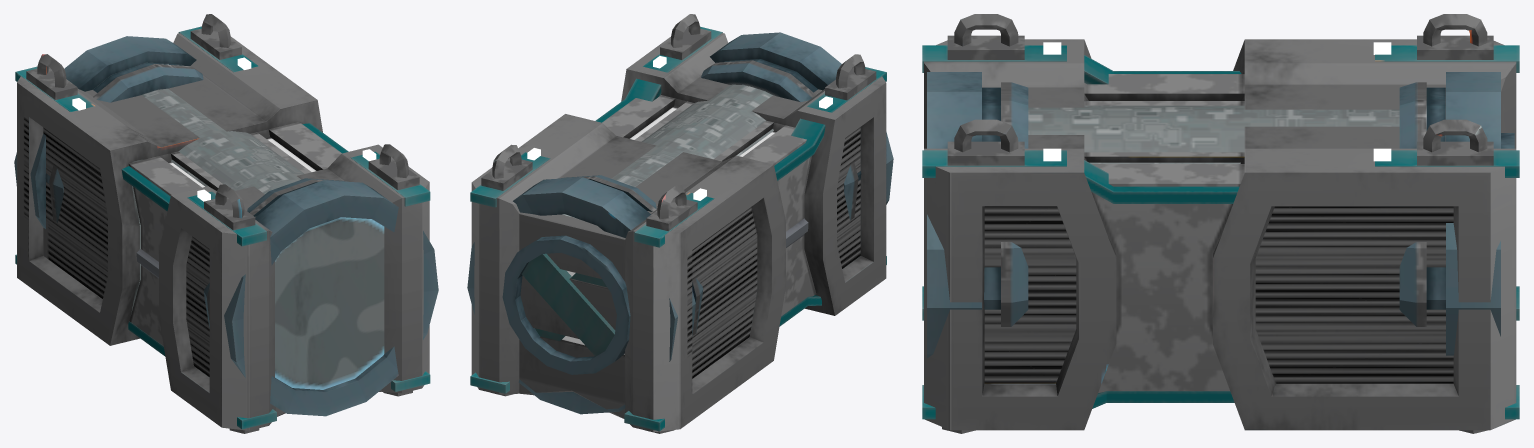
Rendered from WarehouseCrates.fbx.
3 renders of one model, left to right at view 1: azimuth 30°, elevation 25°; view 2: azimuth 150°, elevation 25°; view 3: azimuth 270°, elevation 25°, orthographic. The views are drawn at different scales.
Parts seen in each view (by area): view 1: ResourceCrate-Metal, ResourceTank-Hydrogen; view 2: ResourceCrate-Metal, ResourceTank-Hydrogen; view 3: ResourceCrate-Metal, ResourceTank-Hydrogen.
Part boxes in pixels (bbox=[...]): ResourceCrate-Metal: bbox=[17, 14, 429, 433]; ResourceTank-Hydrogen: bbox=[14, 26, 438, 429]; ResourceCrate-Metal: bbox=[471, 14, 886, 433]; ResourceTank-Hydrogen: bbox=[467, 26, 893, 431]; ResourceCrate-Metal: bbox=[924, 14, 1516, 433]; ResourceTank-Hydrogen: bbox=[922, 45, 1519, 419].
Bounding box in the file's own units: 1.17 × 1.26 × 2.21.
Materials: 1 (1 with a texture image).
